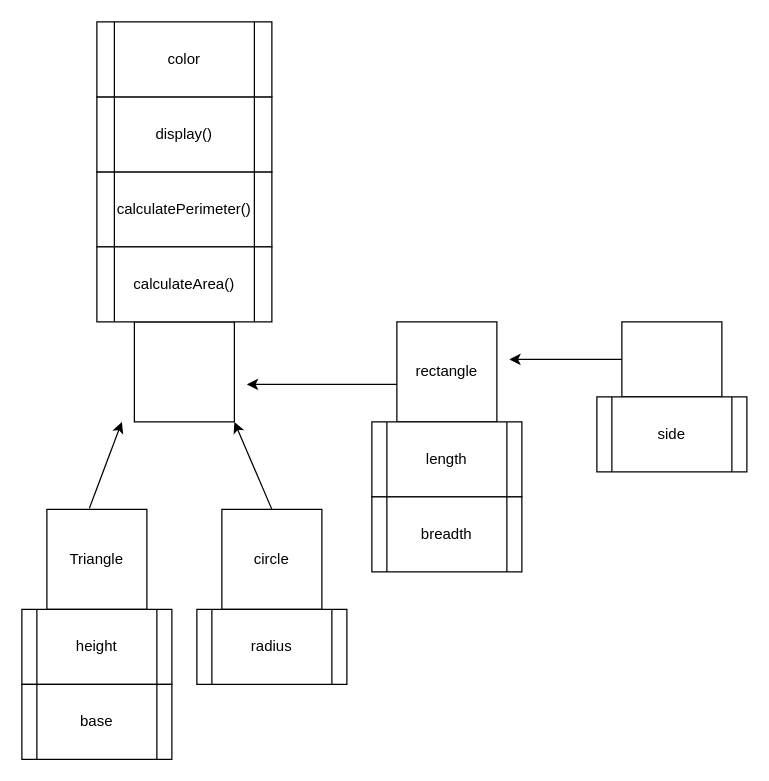
Image size: 769x781. Some labels were removed from this diagram. Each missing label, with the centre of its shape:
"shape" belongs at point (183, 371).
"square" belongs at point (671, 359).
